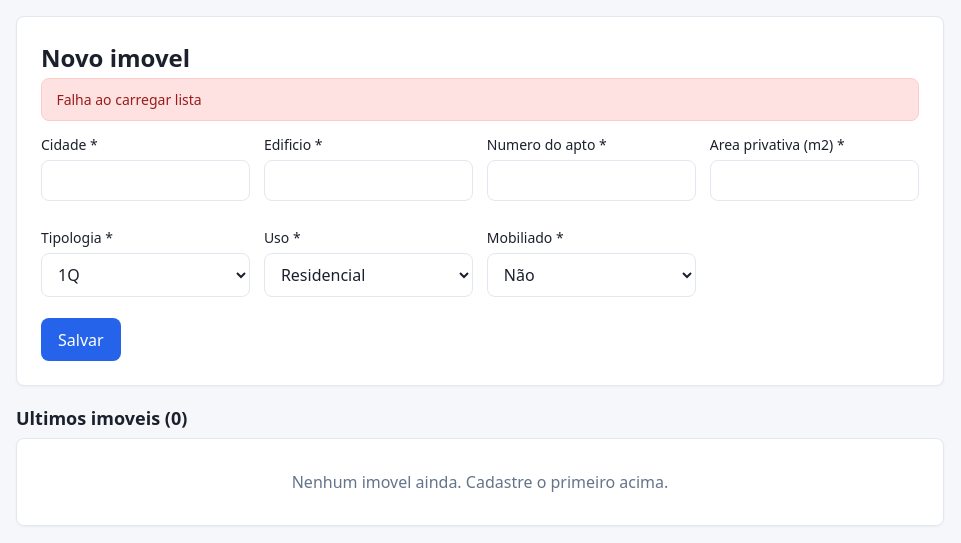
it: CadastroImoveisContent › shows load and duplicate errors
Check: the text "Falha ao carregar lista" is shown, box [41, 78, 919, 121]
Type " florianópolis " into the field labelled "Cidade *" at (146, 180), box [41, 160, 250, 201]
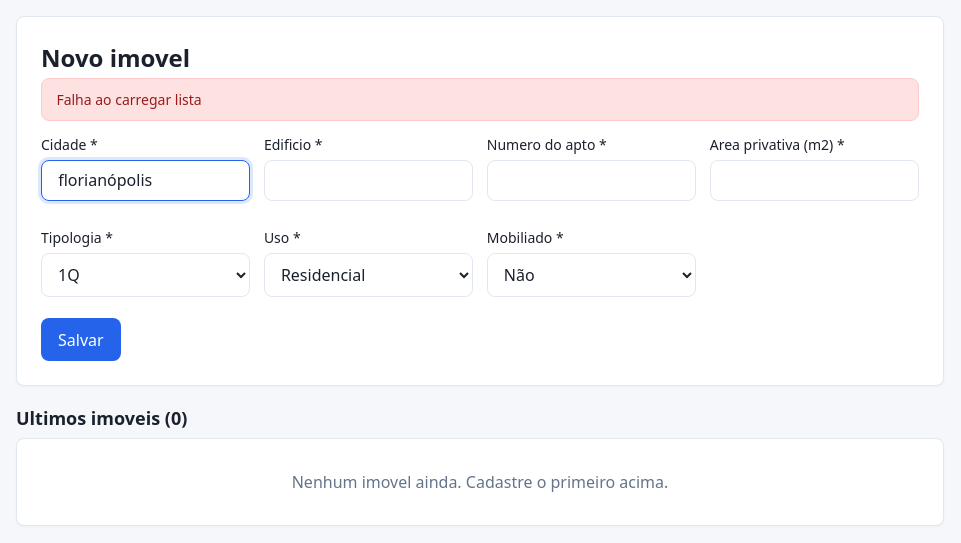
Type " plaza   mediterrâneo " into the field labelled "Edificio *" at (369, 180), box [264, 160, 473, 201]
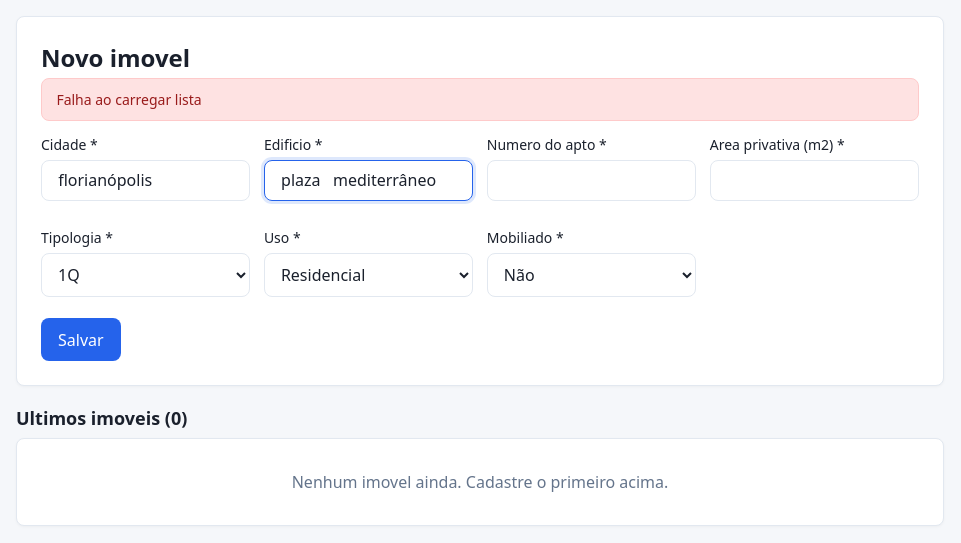
Type "326" into the field labelled "Numero do apto *" at (591, 180), box [487, 160, 696, 201]
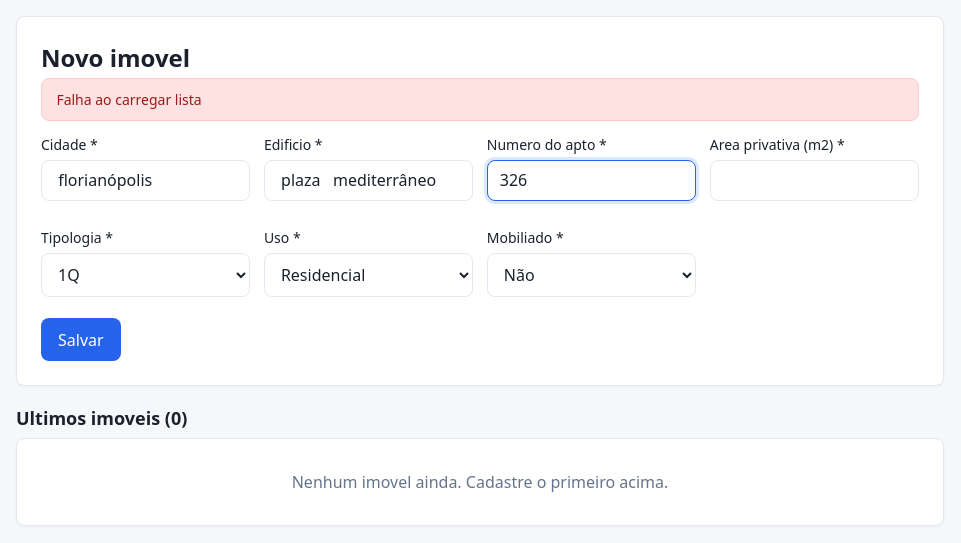
Type "72.5" into the number field labelled "Area privativa (m2) *" at (814, 180), box [710, 160, 919, 201]
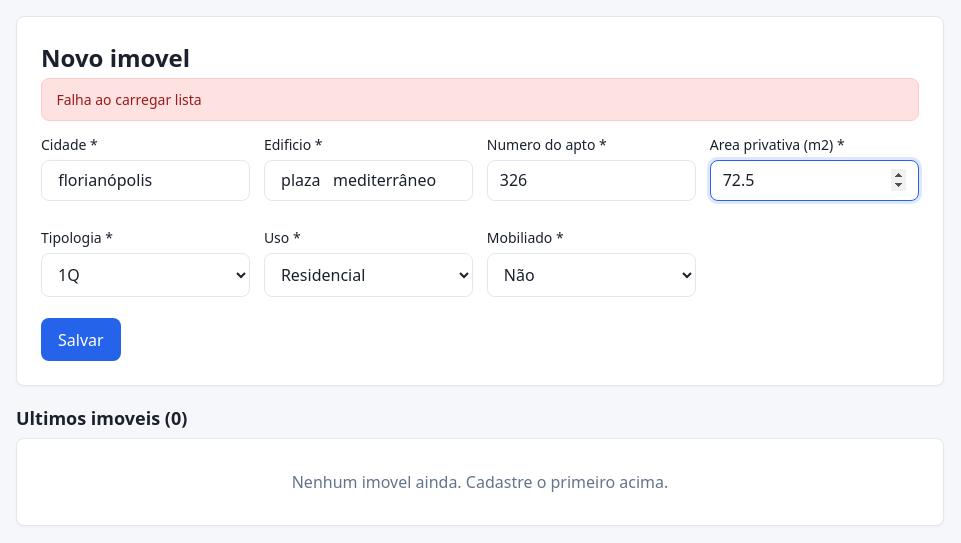
Select "2Q" in the dropdown labelled "Tipologia *" at (146, 275), box [41, 253, 250, 296]
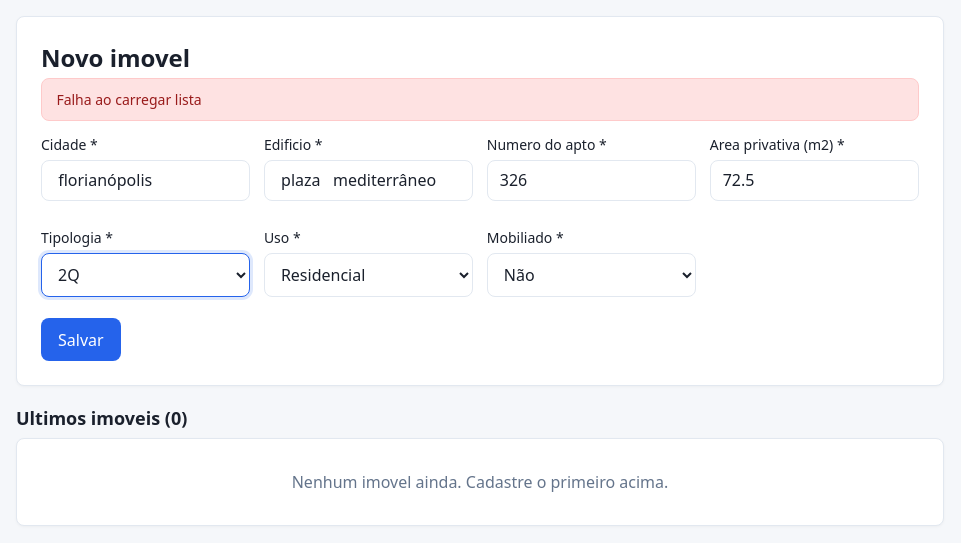
Click the button "Salvar" at (81, 340), box [41, 318, 121, 361]
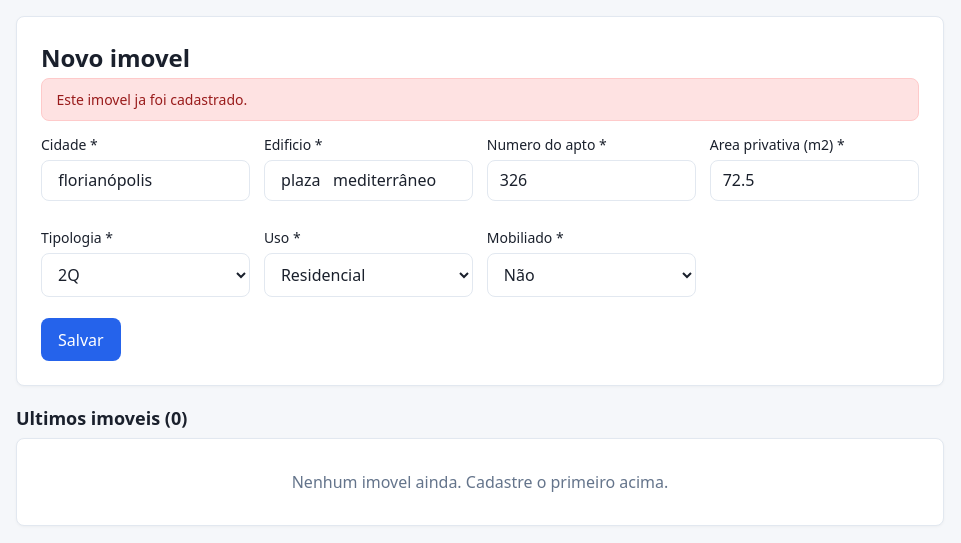
Check: the text "Este imovel ja foi cadastrado." is shown, box [41, 78, 919, 121]
